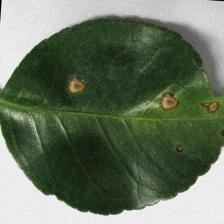canker: (46, 55, 222, 153)
